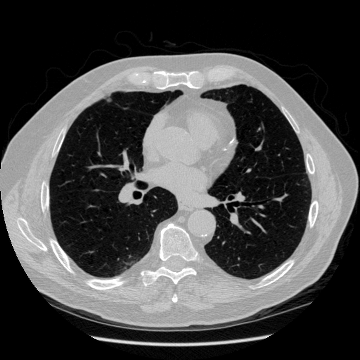nodule: (107, 97, 111, 101)
